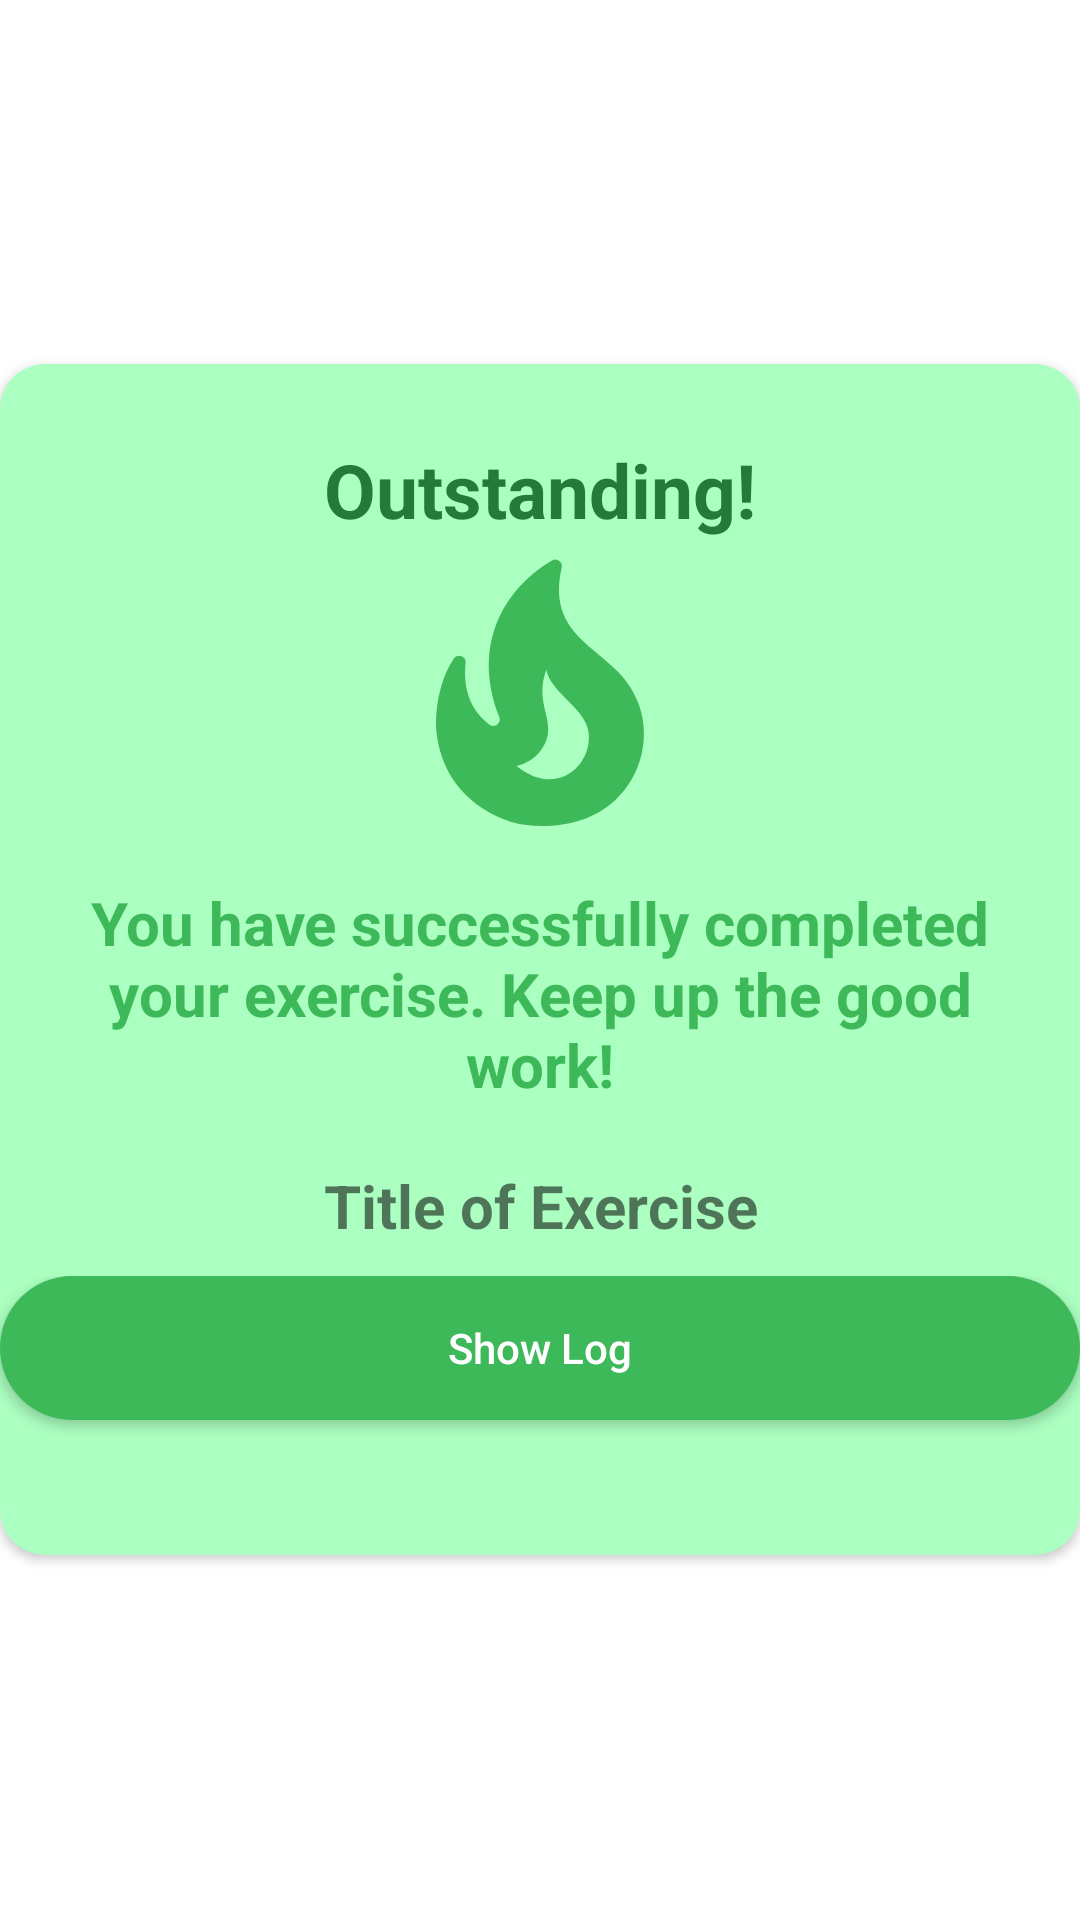

Where to tap for icons on this 1080×1920 app screen, as (x=x, y=y):
fire: (x=540, y=692)
